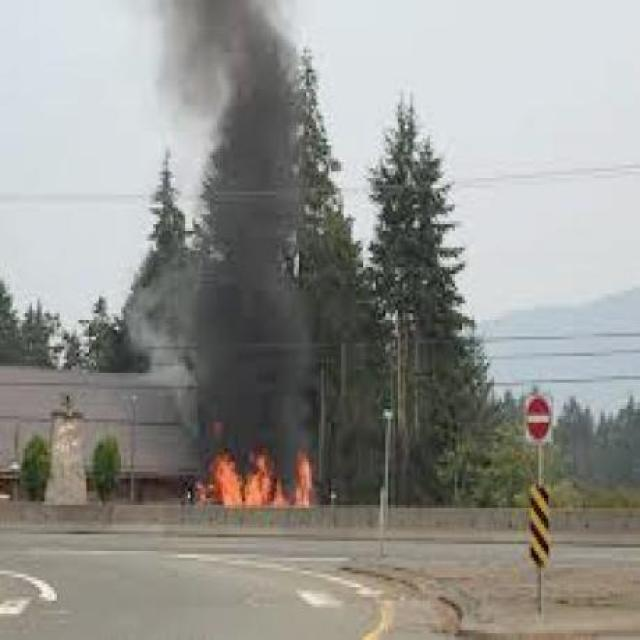Fire: (204, 444, 326, 517)
Smoke: (122, 0, 364, 445)
